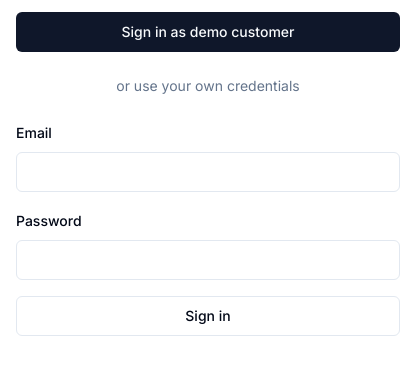
Scenario: SignInForm › does not leave a stale error on screen after a later success
Type "nobody@example.com" into the field labelled "Email".
click(208, 172); type("nobody@example.com")  # box top-left (16, 152), bottom-right (400, 192)
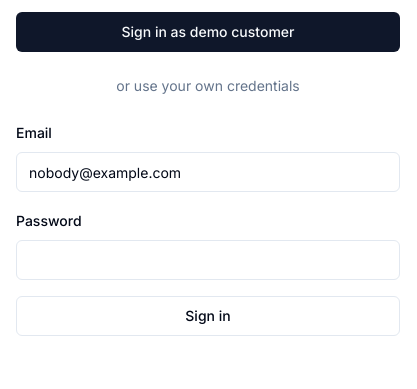
Type "wrong" into the password field labelled "Password".
click(208, 260); type("wrong")  # box top-left (16, 240), bottom-right (400, 280)
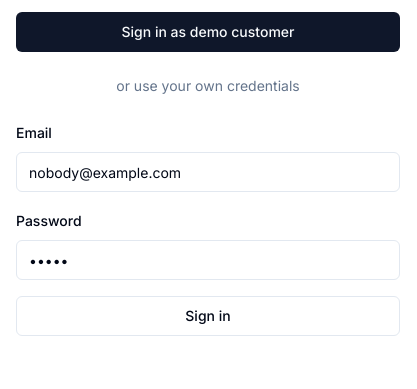
Click the button "Sign in".
click(208, 316)  # box top-left (16, 296), bottom-right (400, 336)
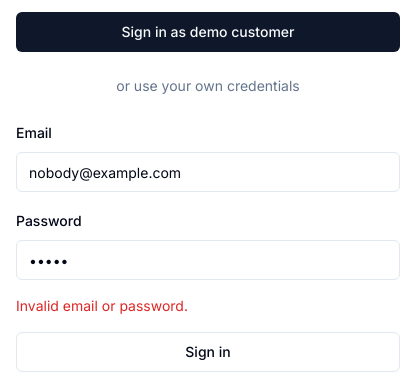
Expected: the message "Invalid email or password." is shown, top-left (16, 297), bottom-right (188, 314)
Click the button "Sign in".
click(208, 352)  # box top-left (16, 332), bottom-right (400, 372)
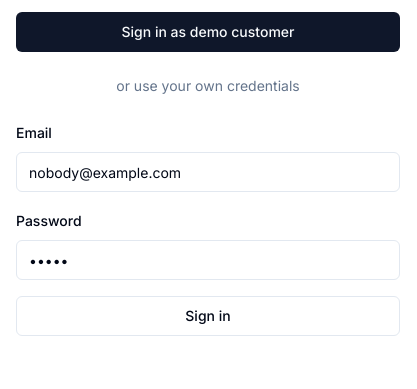
Expected: the message "Invalid email or password." is gone
